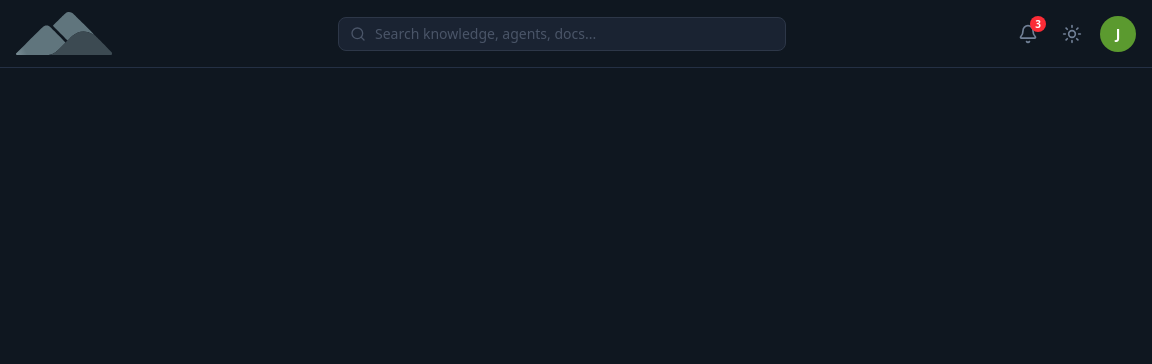
it: TopBar — Notification dropdown › mark all read clears unread badge
Expected: the text "3" is shown, [1030,16,1046,32]
Click the button with test id "notifications-bell": (1028,34) [1012,18,1044,50]
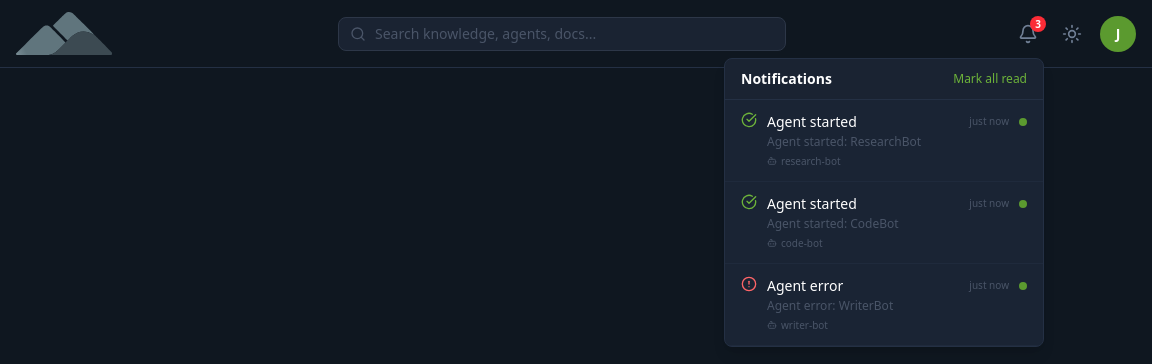
Click the button with test id "mark-all-read": (990,79) [953,71,1027,87]
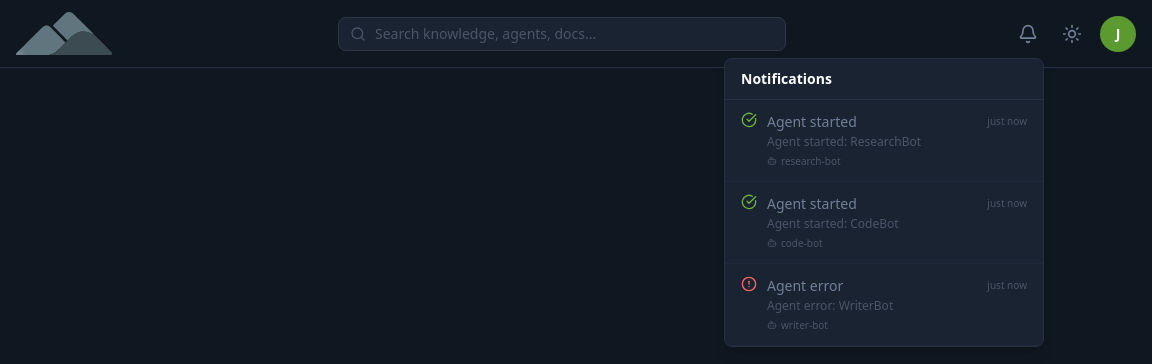
Result: the text "3" is gone
